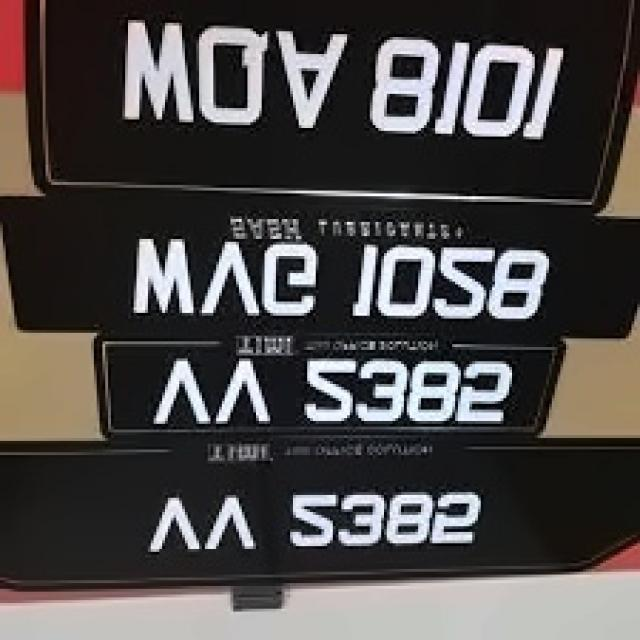car-plate: (24, 2, 640, 202), (0, 440, 640, 580), (0, 195, 640, 332), (92, 334, 566, 437)
